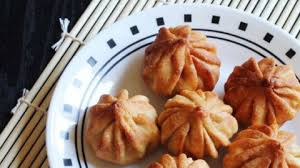modak: (81, 80, 163, 159), (156, 84, 241, 155), (145, 23, 232, 89), (230, 52, 300, 129)
